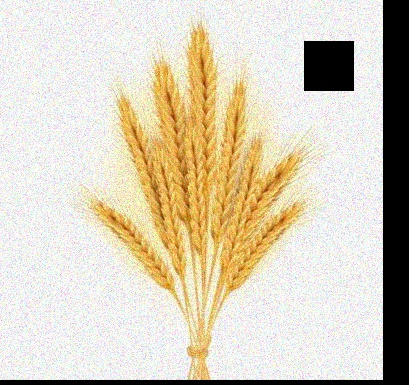wheat: (113, 83, 184, 285), (227, 133, 318, 281), (66, 183, 175, 297), (148, 41, 198, 261), (175, 21, 216, 263), (205, 68, 247, 255), (219, 126, 263, 265)
